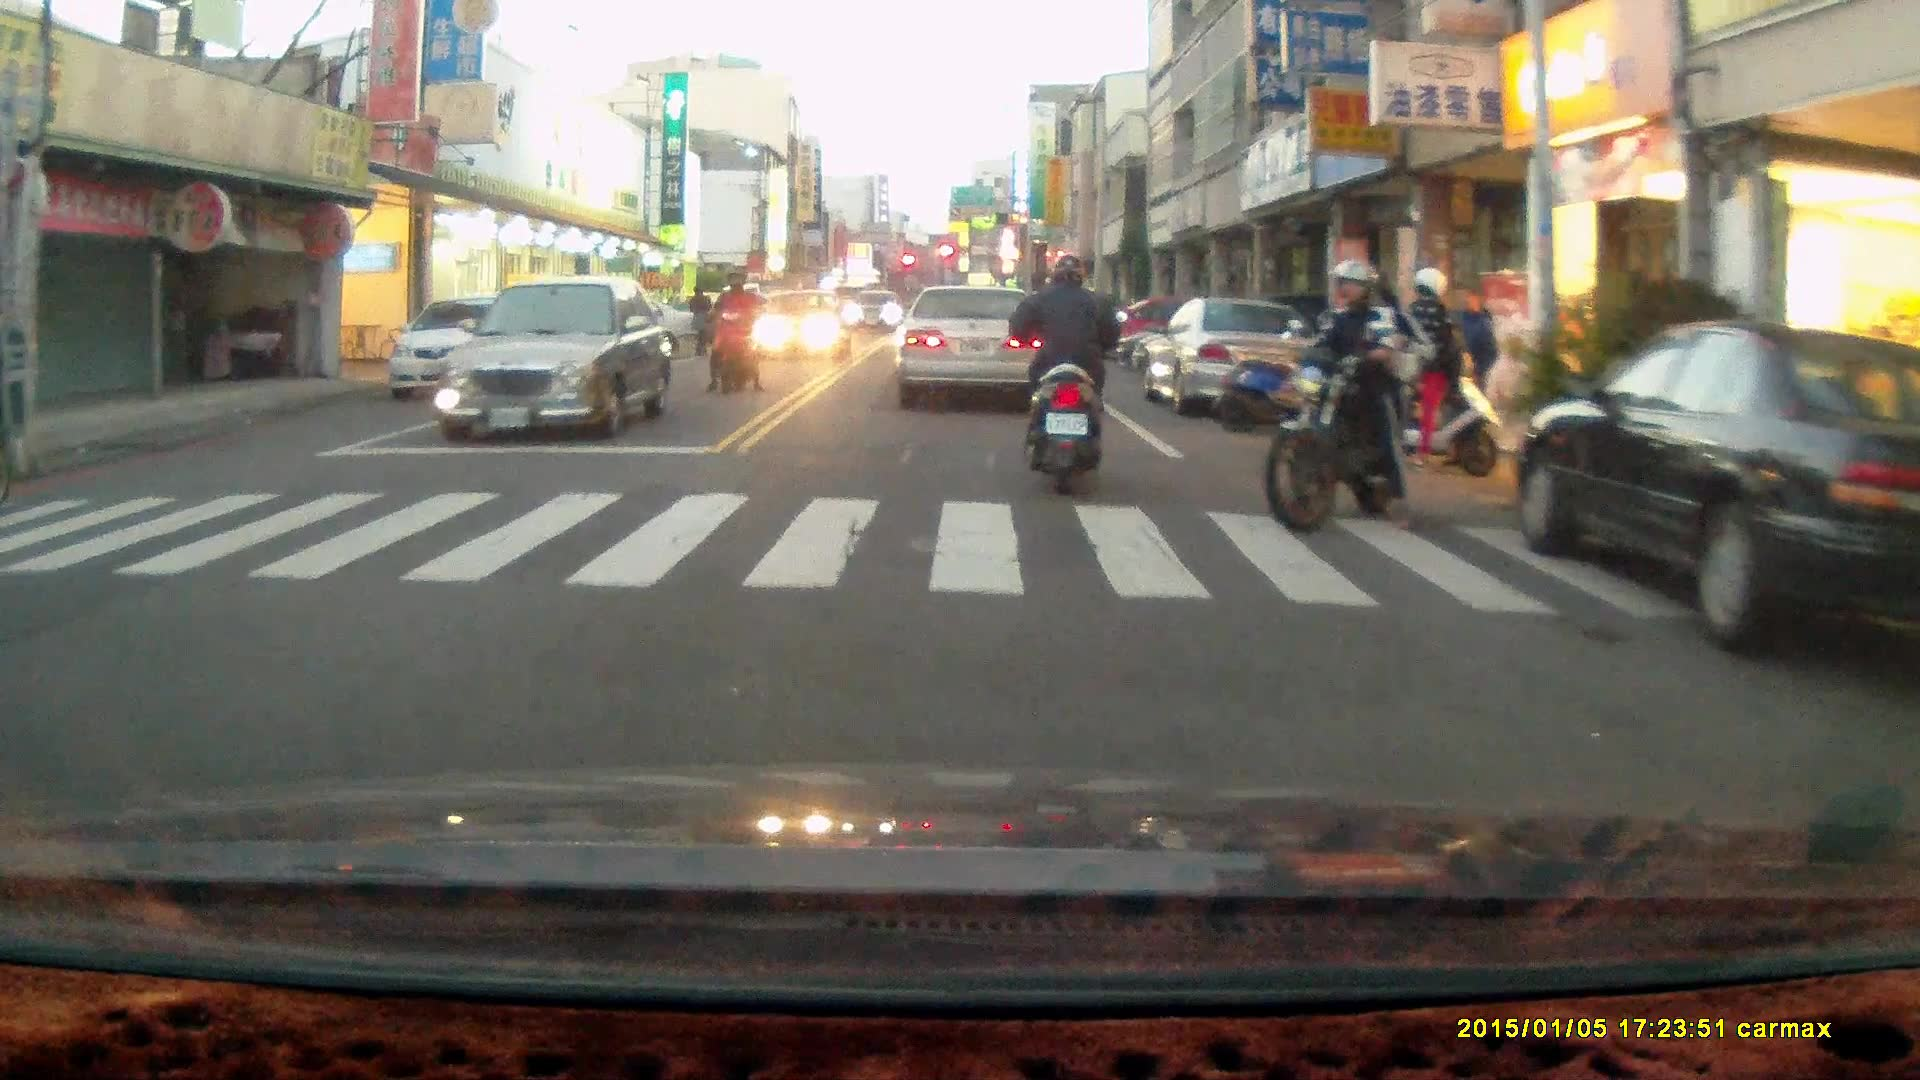pedestrian: (1398, 267, 1458, 464), (1446, 282, 1496, 446), (686, 283, 713, 357)
rider: (1265, 255, 1491, 533), (1008, 250, 1125, 496), (705, 261, 765, 396)
vehicle: (1519, 320, 1920, 655), (442, 277, 676, 444), (1140, 300, 1320, 418), (893, 286, 1048, 413), (388, 290, 549, 408), (747, 287, 848, 365)
